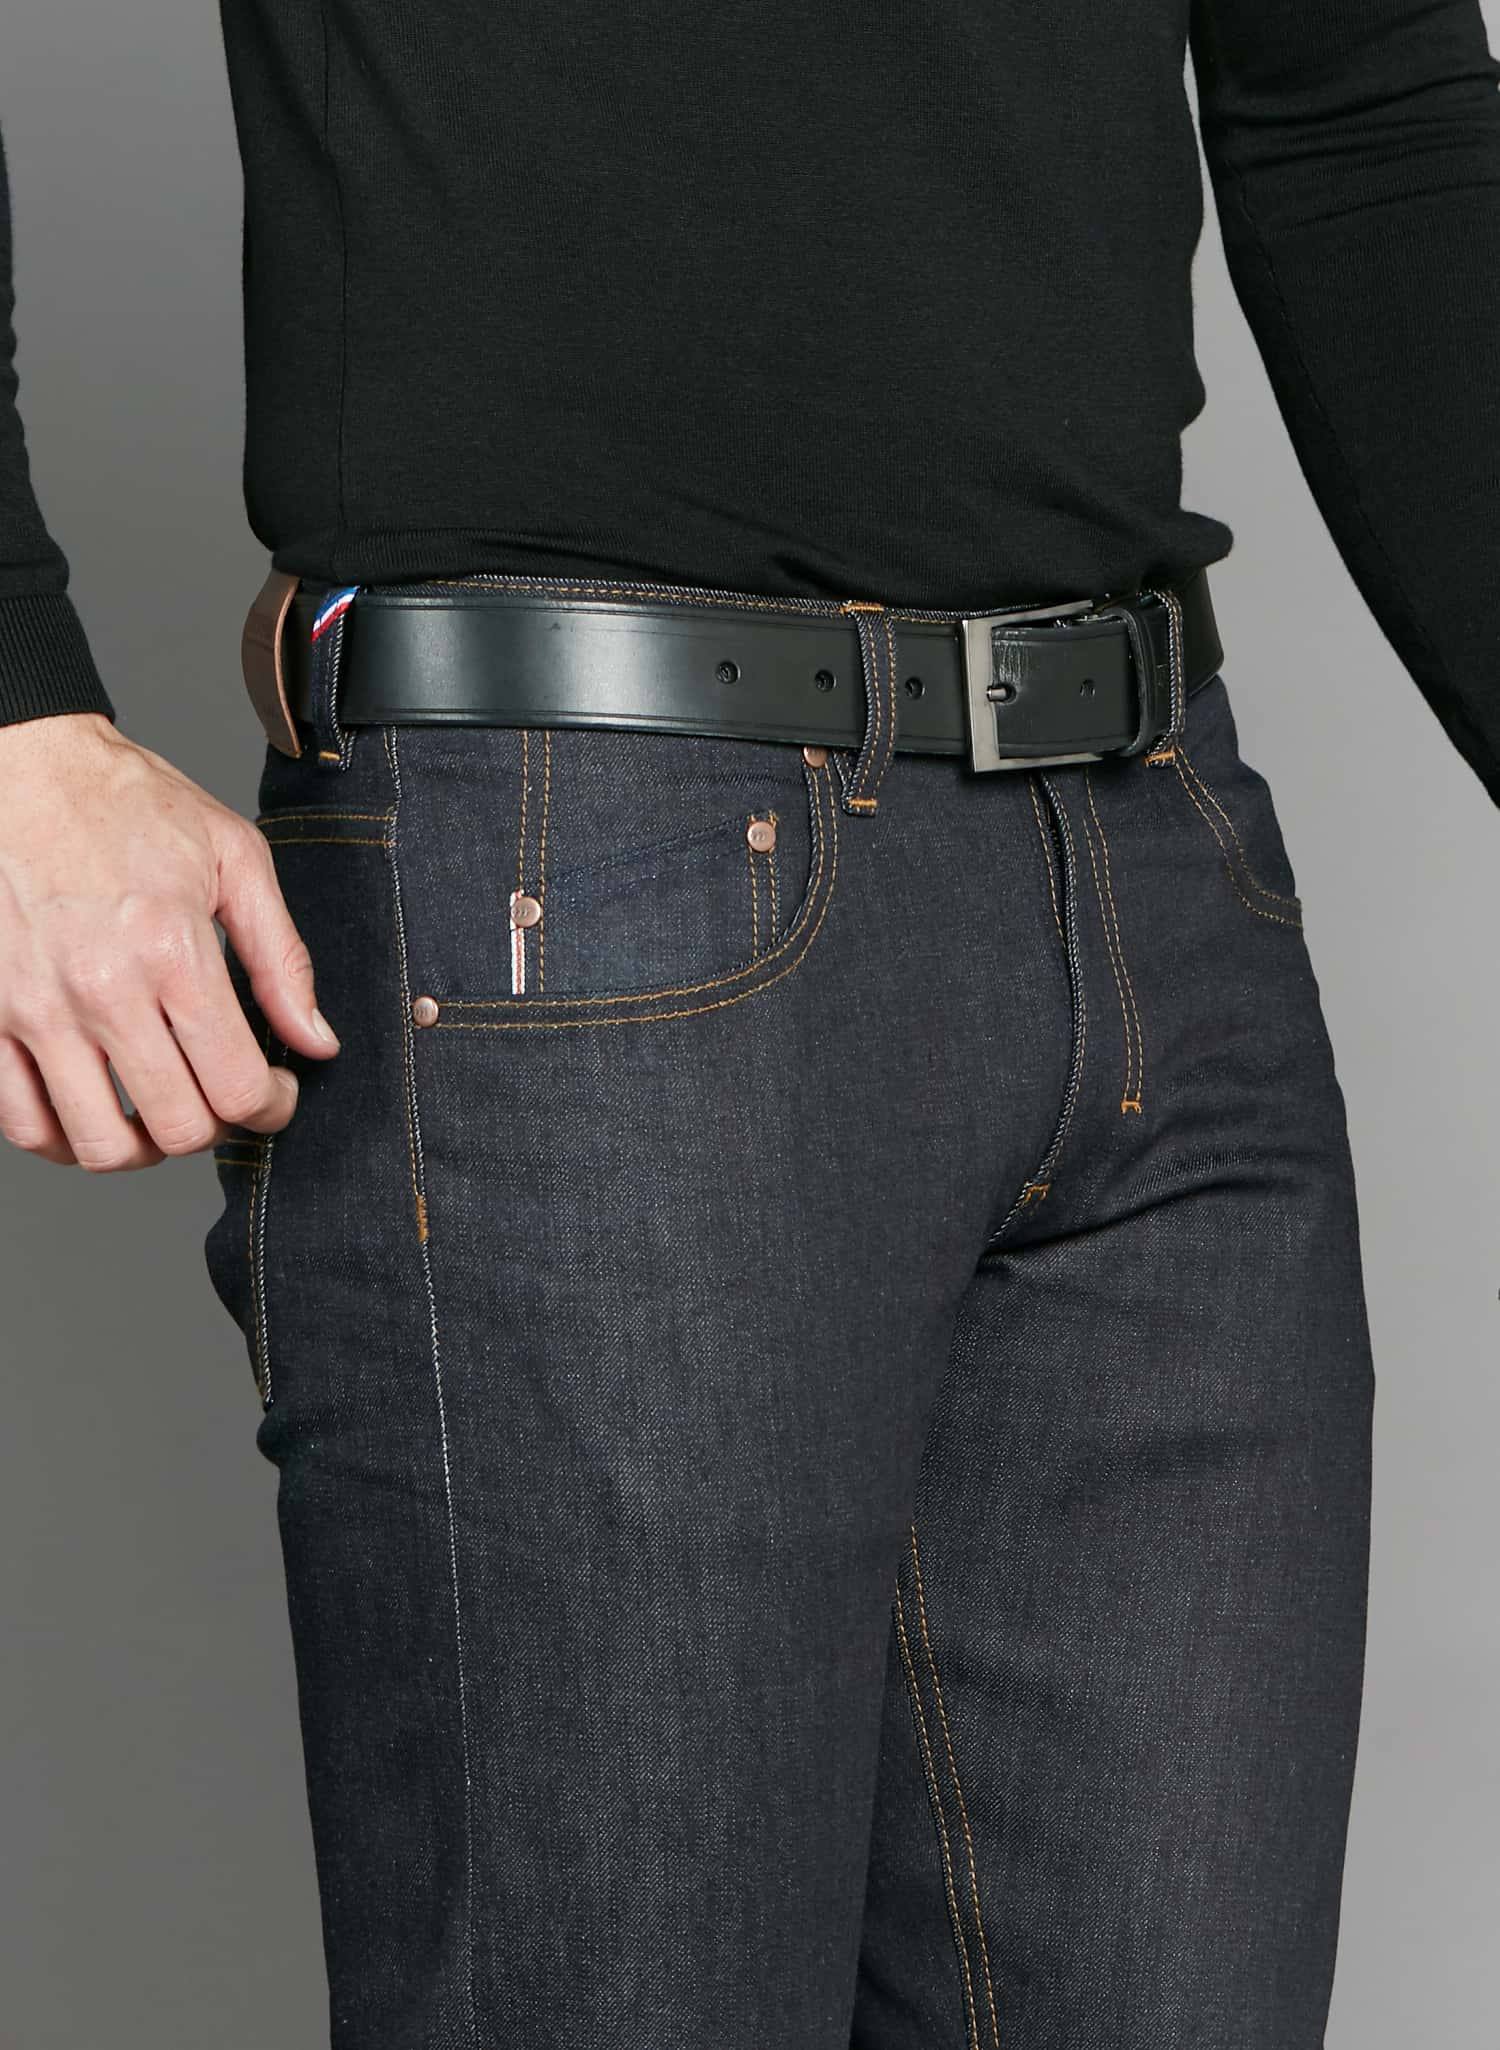C_jeans: (221, 664, 1389, 2050)
F_belt: (213, 544, 1279, 805)
